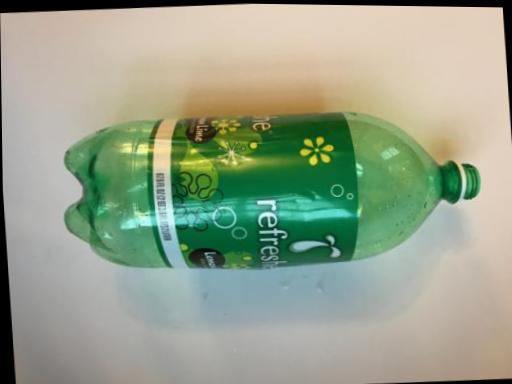plastic: (51, 96, 489, 288)
